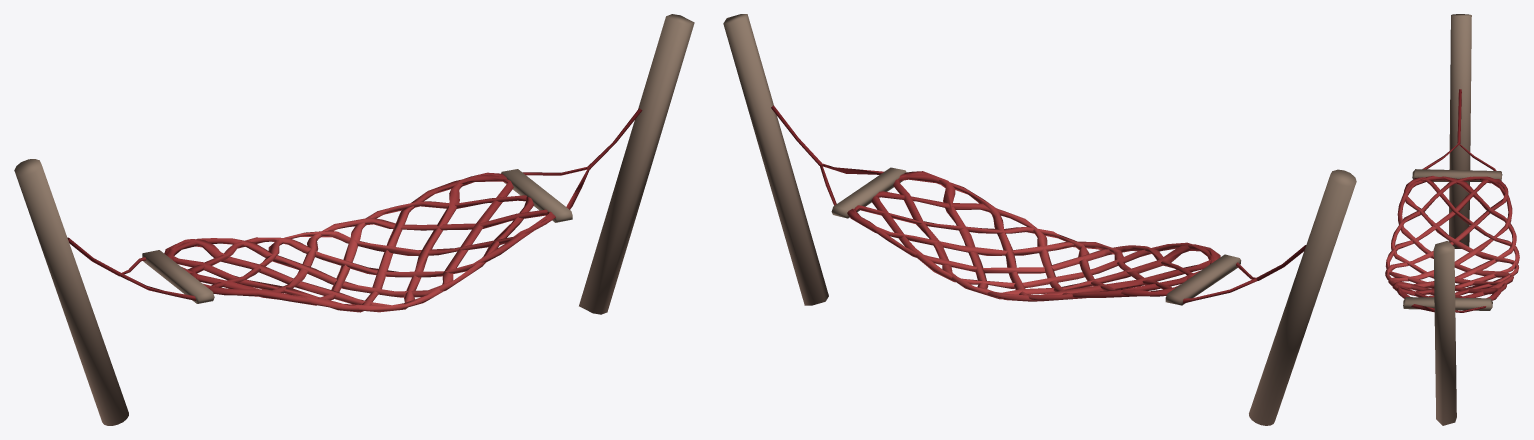
The model's file is Gamack.fbx.
3 renders of one model, left to right at view 1: azimuth 30°, elevation 25°; view 2: azimuth 150°, elevation 25°; view 3: azimuth 270°, elevation 25°, orthographic. The views are drawn at different scales.
Parts seen in each view (by area): view 1: Gamack; view 2: Gamack; view 3: Gamack.
Boxes of the visible parts, x1,y1,x2,y2 form: Gamack: [14, 14, 694, 425]; Gamack: [723, 14, 1356, 425]; Gamack: [1385, 14, 1519, 425].
Size of the model in its own units: 7.92 by 1.87 by 3.17.
